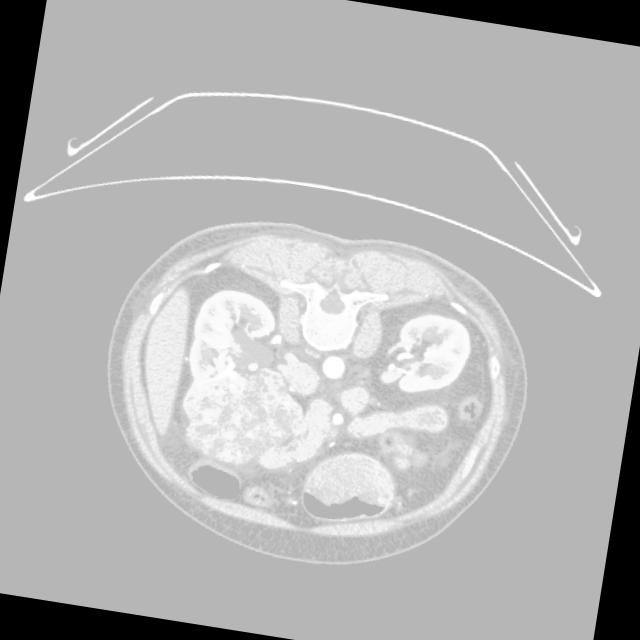TUMOR: (141, 291, 456, 471)
